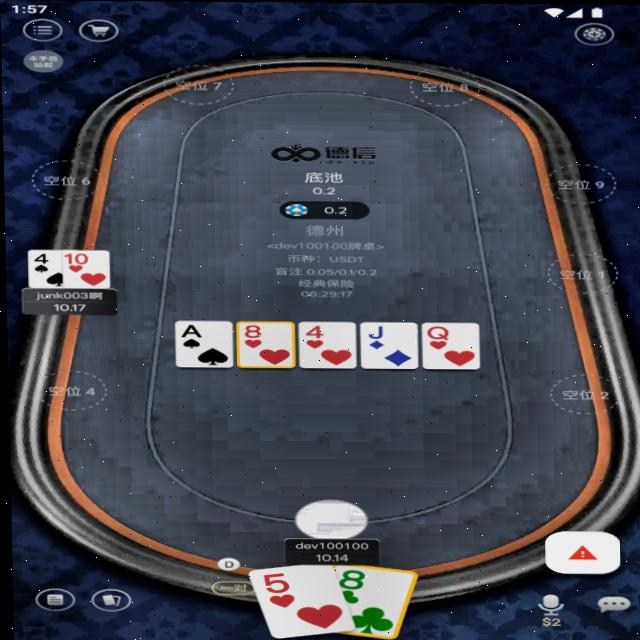10h: (60, 252, 89, 266)
4h: (301, 322, 329, 340)
4s: (30, 251, 52, 264)
5h: (258, 571, 290, 594)
8h: (237, 323, 264, 339)
8m: (334, 568, 367, 590)
As: (179, 323, 205, 339)
Jf: (363, 323, 389, 340)
Qh: (424, 324, 452, 341)
